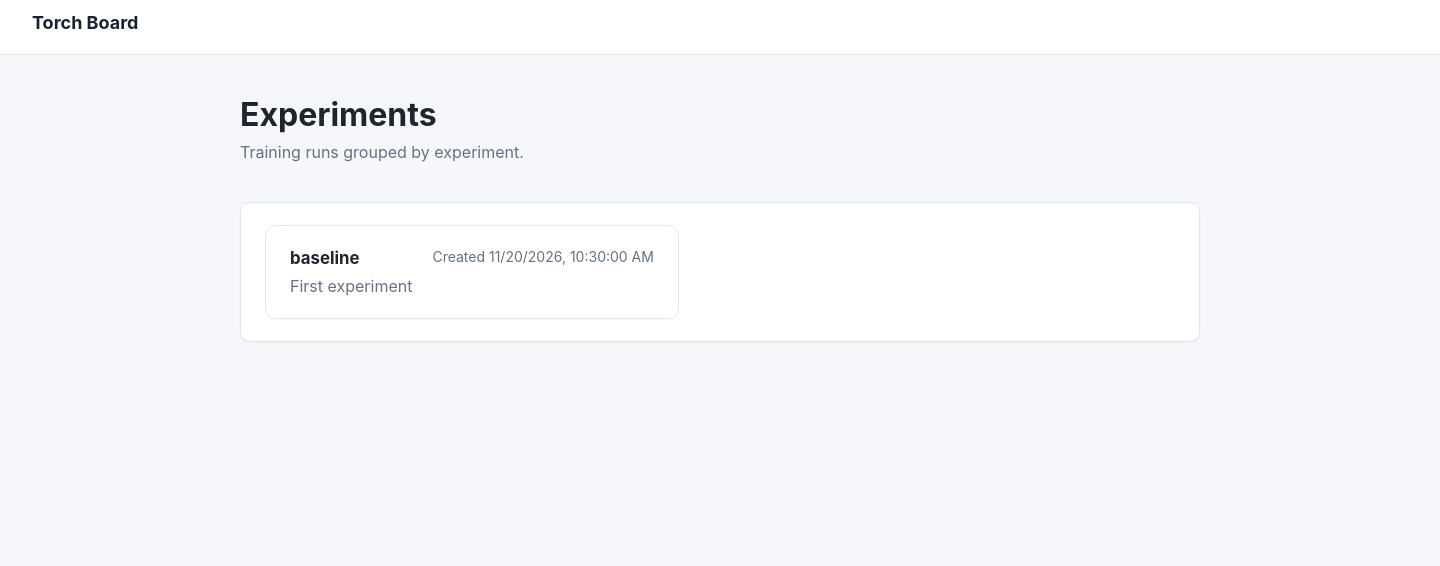
Test: experiments navigation › opens an experiment and displays its metadata and runs
Click the link "baseline First experiment Created 11/20/2026, 10:30:00 AM": (472, 272) [265,225,679,319]
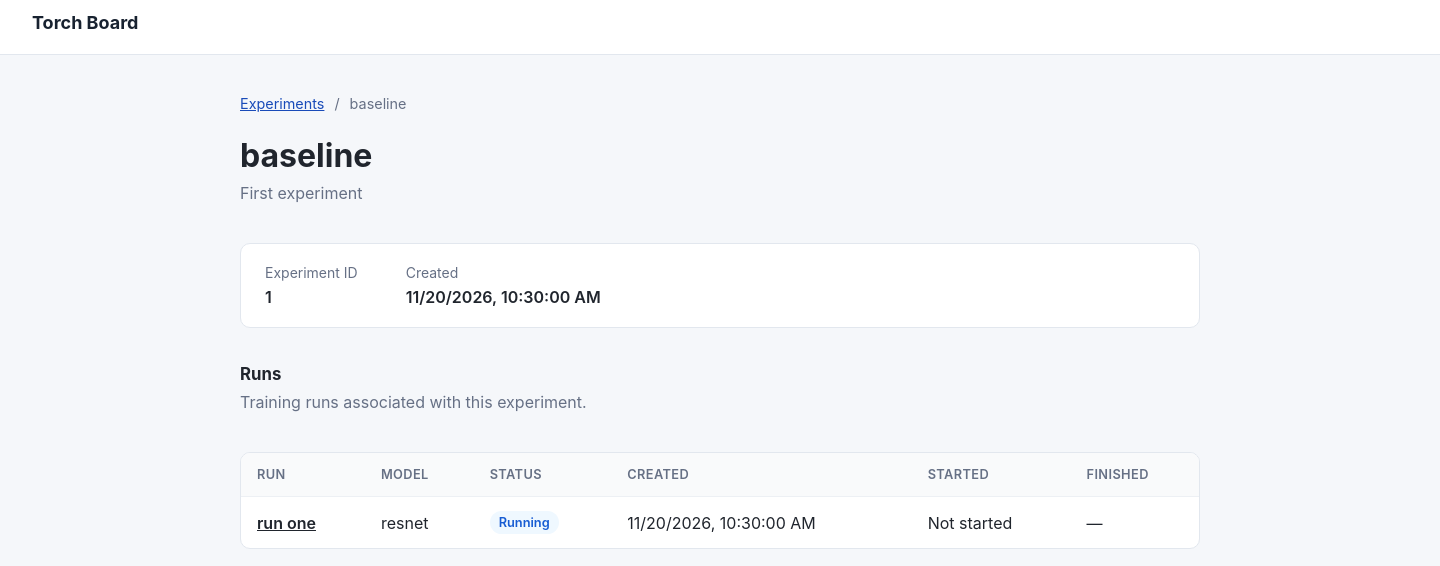
Now the heading "baseline" is shown, box [240,136,372,175]
Now the text "First experiment" is shown, box [240,183,372,203]
Now the table named "Runs for baseline" is shown, box [241,453,1199,548]
